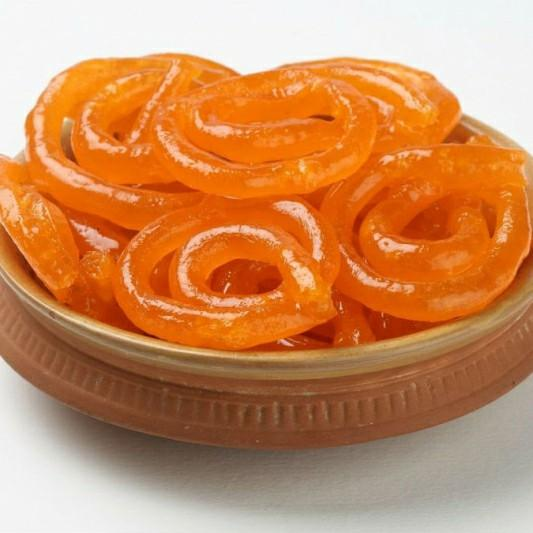Jalebi: (0, 52, 533, 350)
